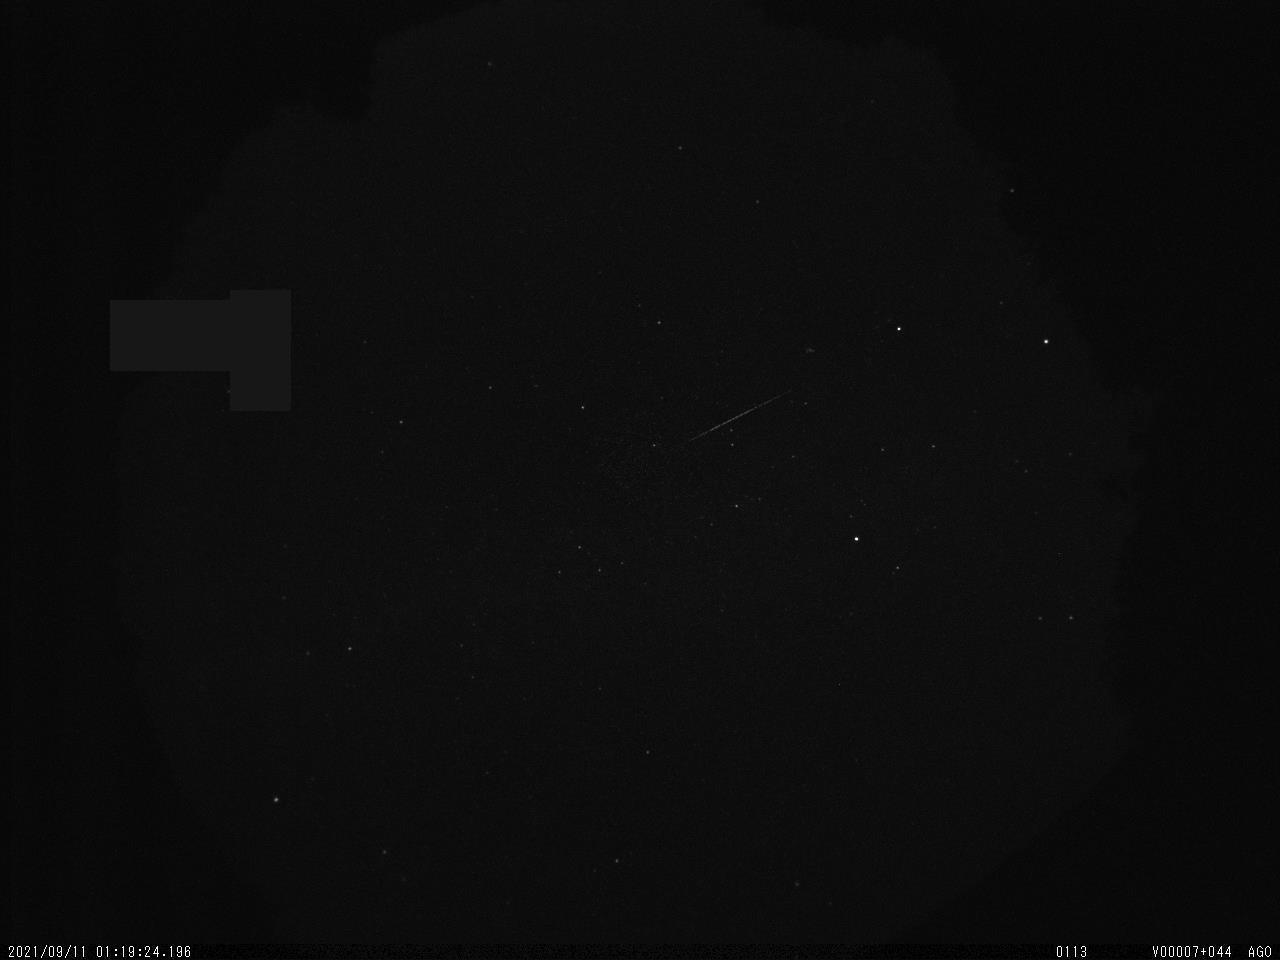meteor: (642, 375, 799, 468)
